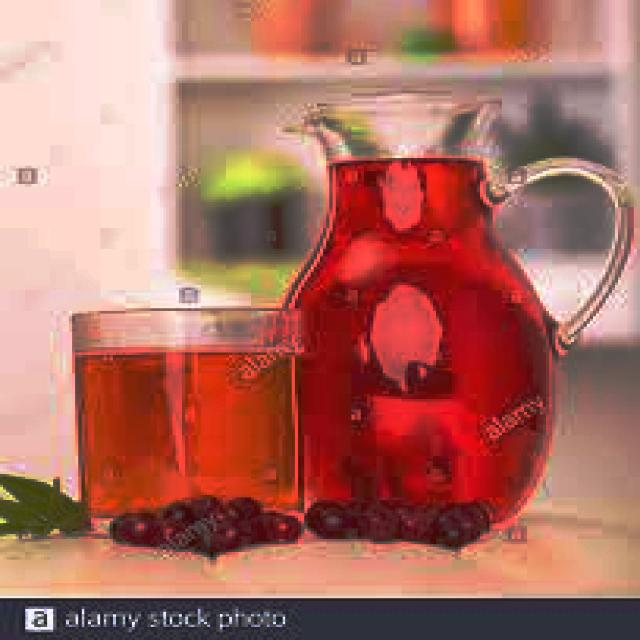drink: (62, 293, 314, 541)
